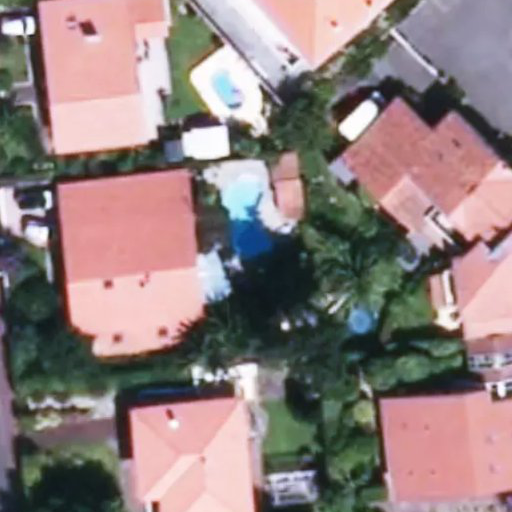pool: (224, 211, 282, 269)
